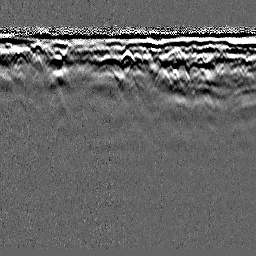cavity: (119, 49, 136, 64)
